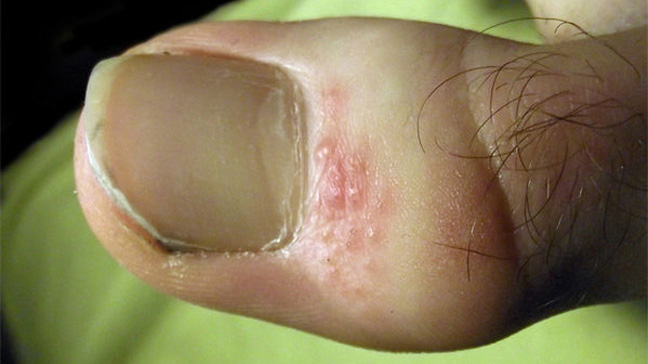Diseased: (189, 48, 426, 302)
